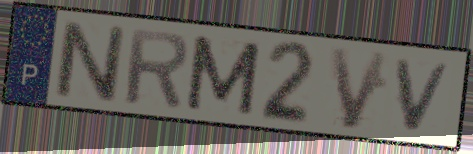2: (259, 38, 316, 128)
M: (182, 32, 264, 118)
N: (53, 17, 127, 106)
R: (122, 25, 191, 110)
V: (326, 45, 394, 133), (392, 56, 457, 135)
